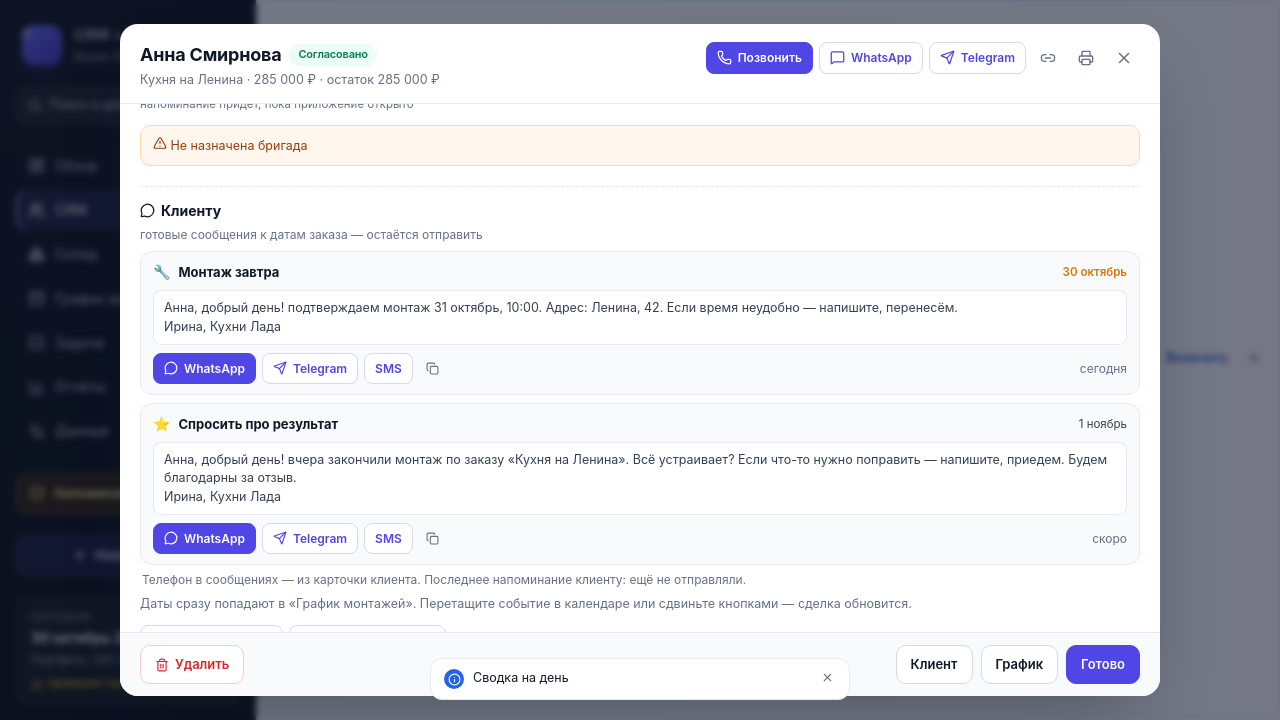
напоминания клиенту › показывает готовое сообщение и отмечает отправку
This screenshot has width=1280, height=720.
(page scrolled)
Expected: the heading "Клиенту" is shown, [140, 201, 221, 221]
Expected: the text "Монтаж завтра" is shown, [178, 263, 279, 282]
What coordinates should you click on to do the following:
click the link "WhatsApp" below "Монтаж завтра"
I would click on:
 (204, 368)
Its box is [153, 353, 256, 384].
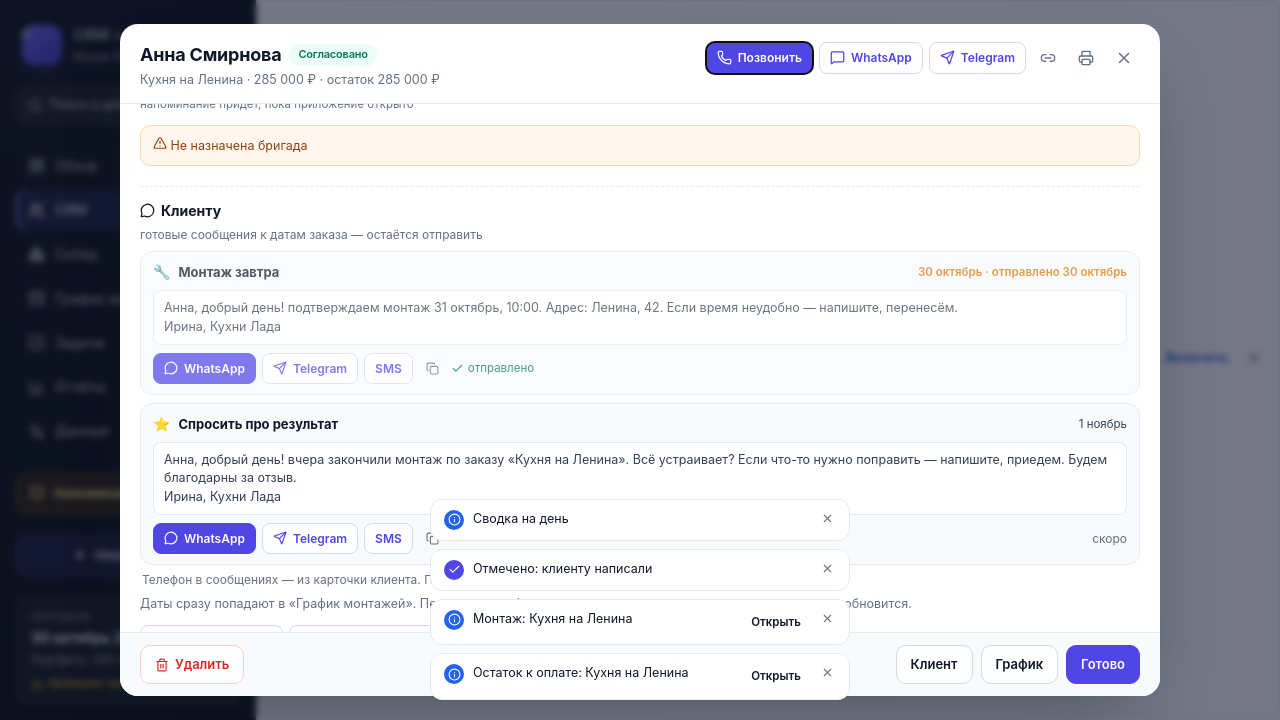
Result: the text "30 октябрь · отправлено 30 октябрь" is shown at [918, 264, 1127, 281]
